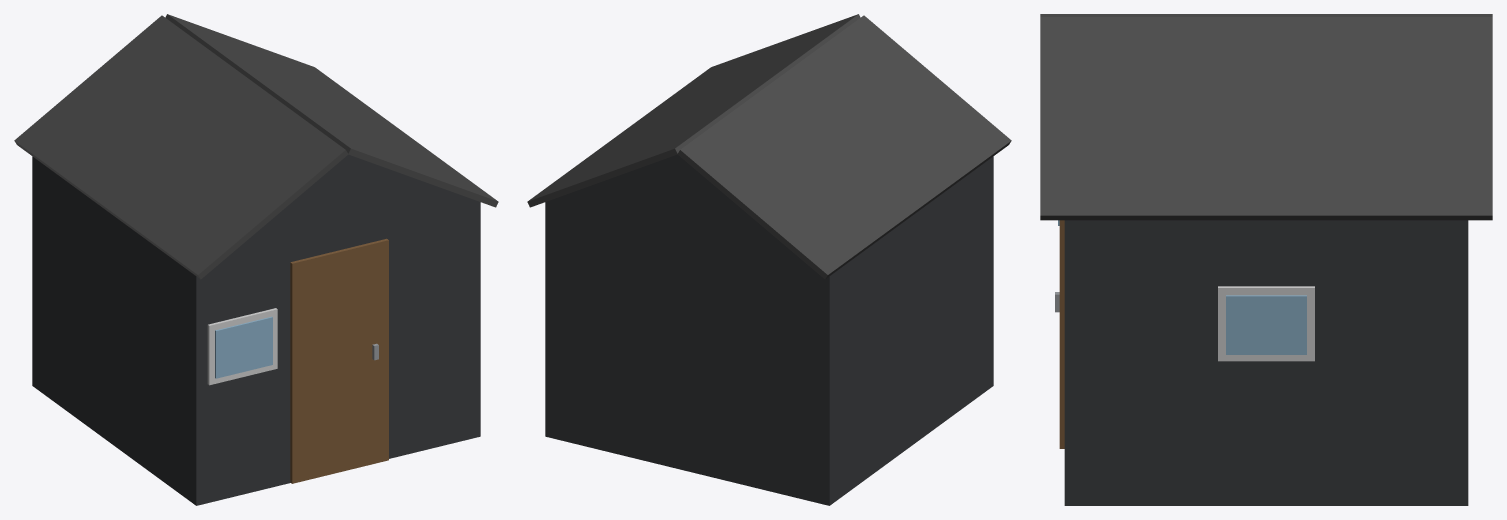
3 views of the same model, side by side, from view 1: azimuth 30°, elevation 25°; view 2: azimuth 150°, elevation 25°; view 3: azimuth 270°, elevation 25° (orthographic). The views are drawn at different scales.
Visible parts, largest first — view 1: box-primary, box-roof (×2), box-darkwood, prism-primary, box-glass, box-rim; view 2: box-primary, box-roof (×2), prism-primary; view 3: box-primary, box-roof (×2), box-glass, box-rim, box-darkwood.
Part boxes in pixels (x1,y1,x2,y2): box-primary: (32,156,480,505); box-roof (×2): (14,14,498,279); box-darkwood: (290,238,388,483); prism-primary: (222,154,473,261); box-glass: (215,316,272,378); box-rim: (207,308,277,385); box-primary: (545,156,993,505); box-roof (×2): (527,14,1011,279); prism-primary: (552,154,803,261); box-primary: (1064,220,1468,505); box-roof (×2): (1040,14,1492,220); box-glass: (1226,295,1306,354); box-rim: (1218,286,1314,361); box-darkwood: (1059,220,1064,448).
Size of the model in its own units: 2.64 by 2.77 by 2.8.
